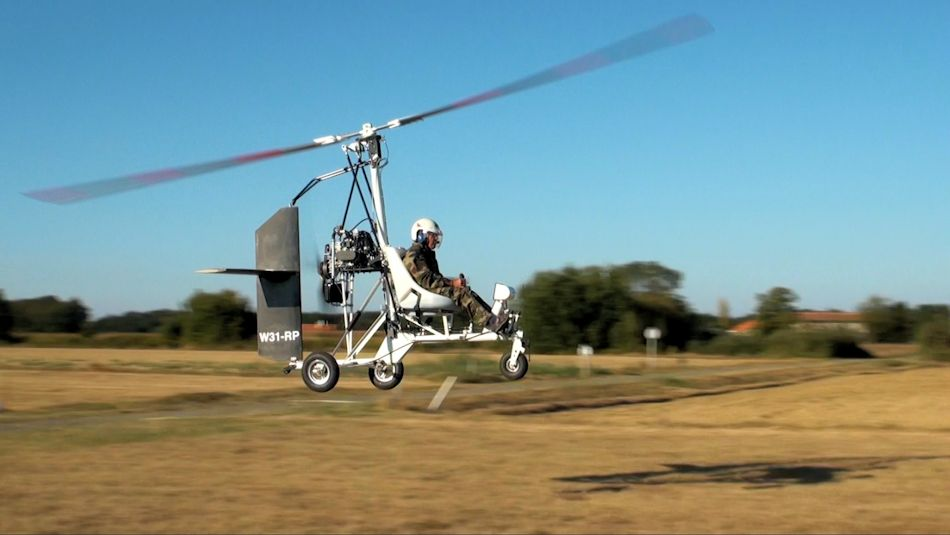Aeronef_de_loisir: (22, 1, 734, 429)
